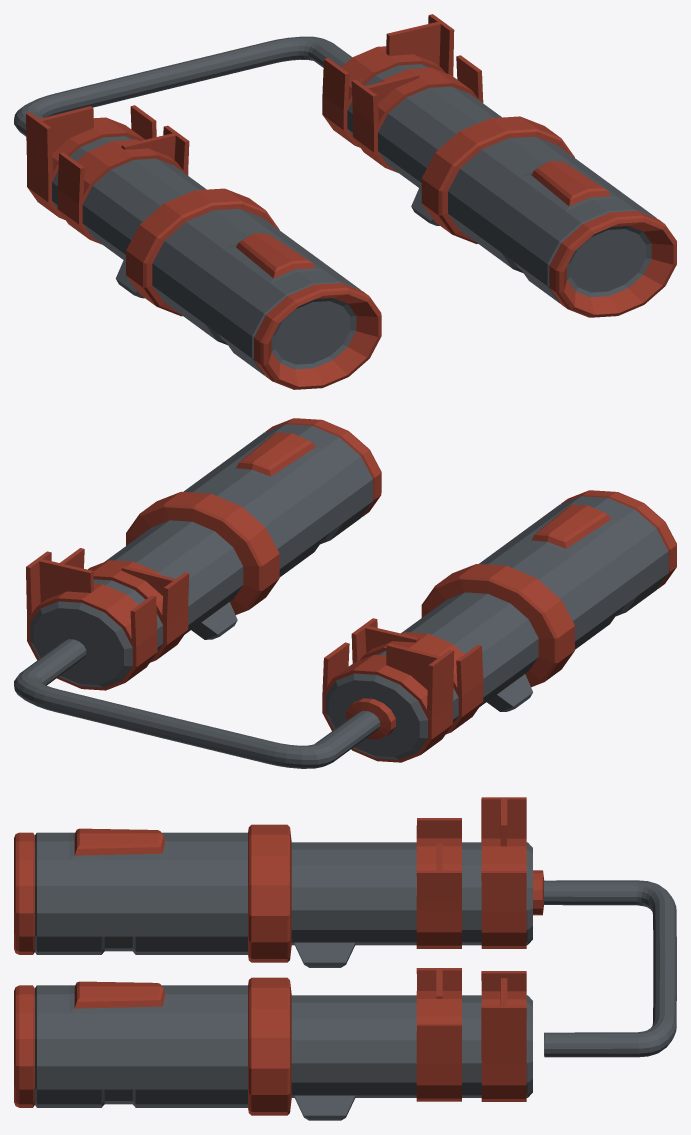
File: Personal_Vehicle_04_Engine_Red.fbx
3 views of the same model, one above another, from view 1: azimuth 30°, elevation 25°; view 2: azimuth 150°, elevation 25°; view 3: azimuth 270°, elevation 25° (orthographic). The views are drawn at different scales.
Parts seen in each view (by area): view 1: Personal_Vehicle_04_Engine_Red; view 2: Personal_Vehicle_04_Engine_Red; view 3: Personal_Vehicle_04_Engine_Red.
Boxes of the visible parts, <box> form: Personal_Vehicle_04_Engine_Red: <box>14,14,676,389</box>; Personal_Vehicle_04_Engine_Red: <box>14,418,676,768</box>; Personal_Vehicle_04_Engine_Red: <box>14,797,676,1120</box>.
Bounding box in the file's own units: 204 × 54.3 × 256.
Materials: 2 (2 with a texture image).
